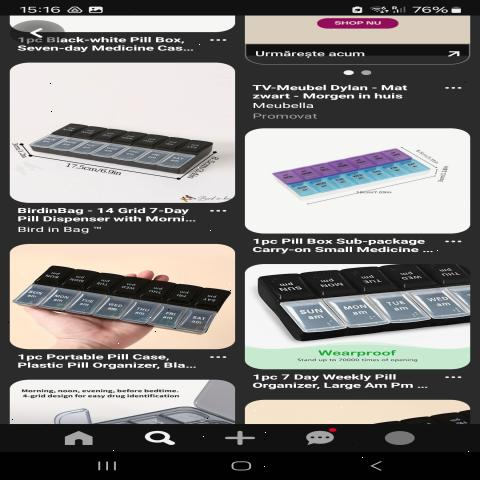PillBox: (262, 260, 480, 351), (13, 259, 230, 341), (258, 131, 450, 223), (13, 107, 221, 185)
